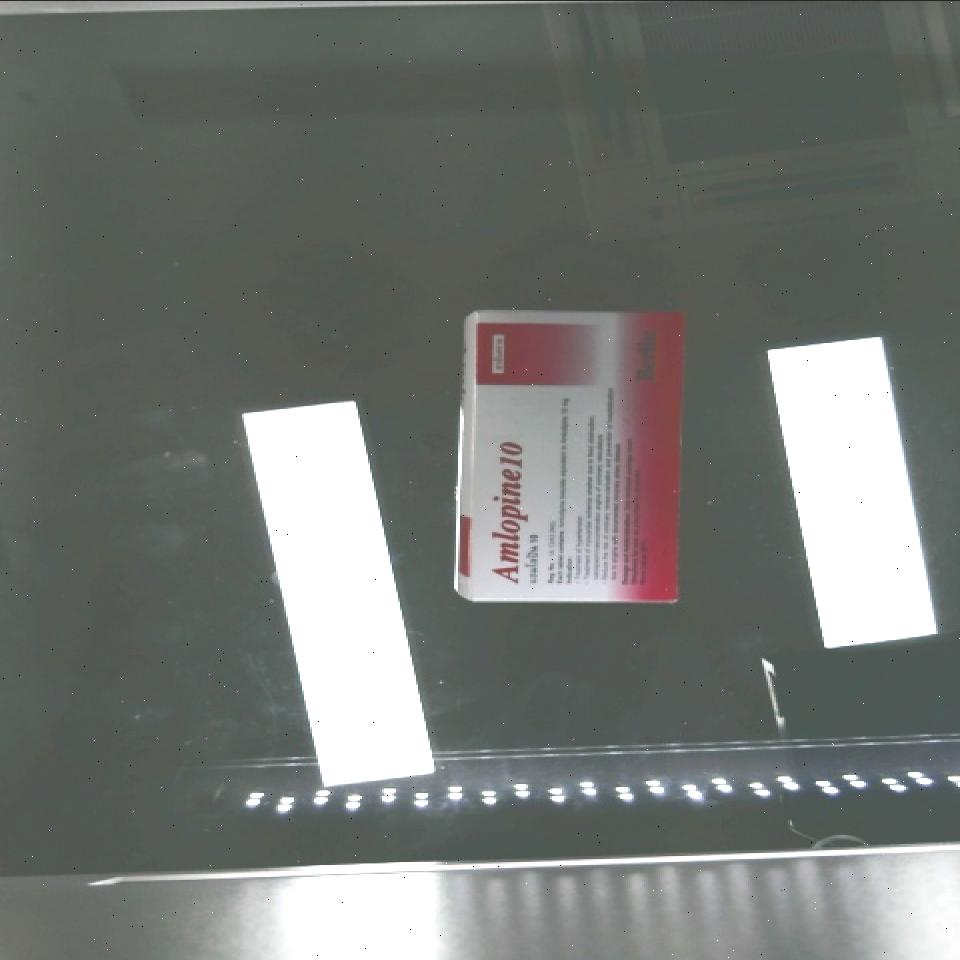medicine_box: (463, 303, 691, 609)
medicine_label_obb: (481, 430, 540, 599)
